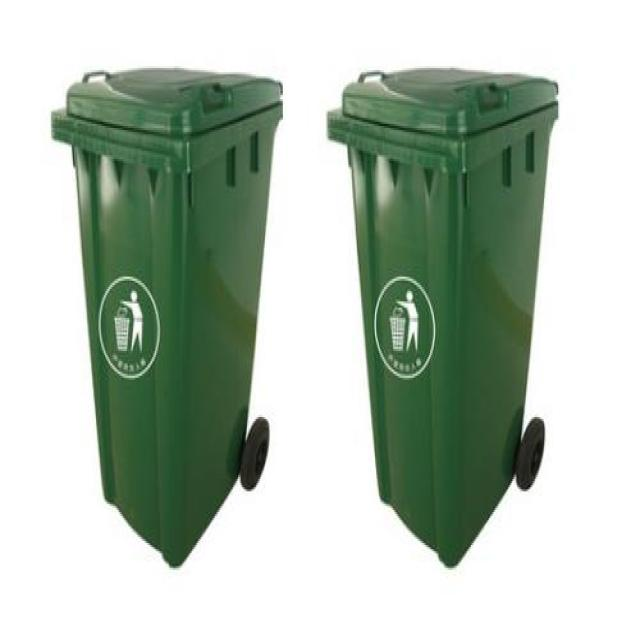garbage_bin: (325, 64, 558, 570), (50, 64, 282, 568)
